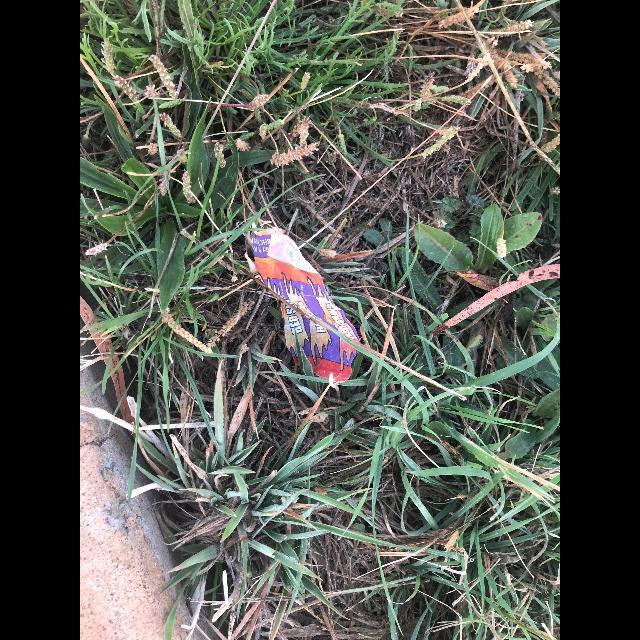Plastic: (252, 229, 361, 383)
